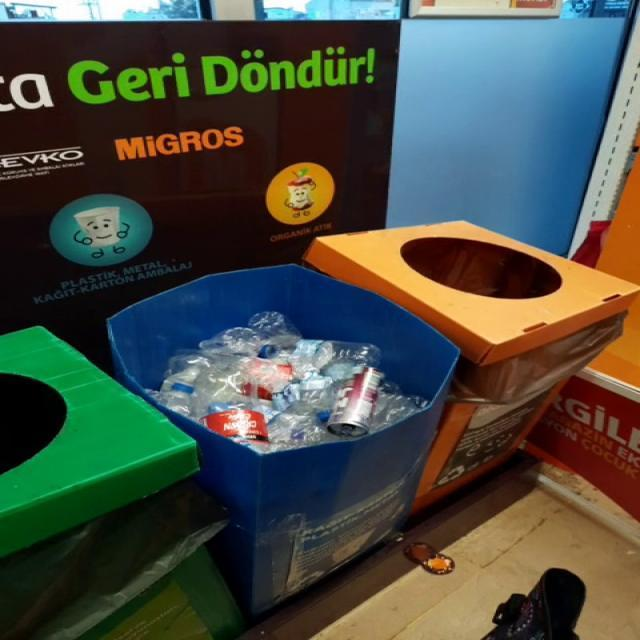Metal: (327, 367, 384, 438)
